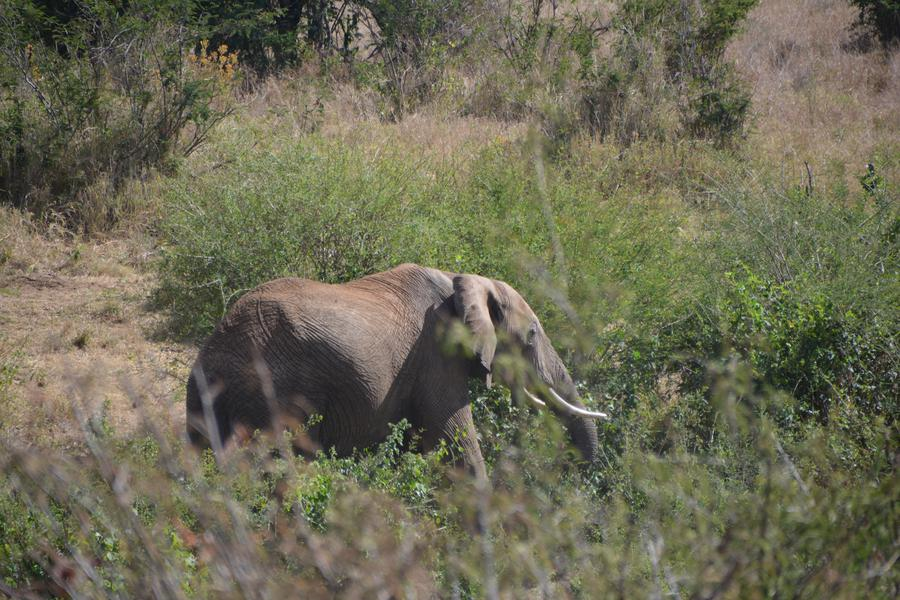elephant: (190, 256, 590, 485)
